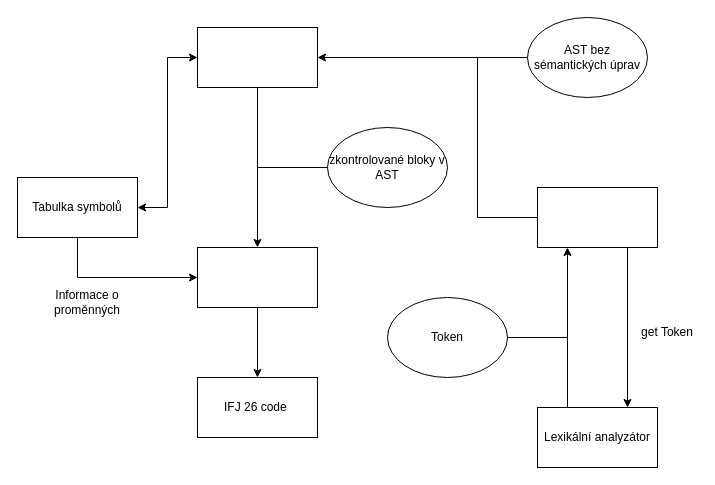
Some shapes in this 715 by 485 pixel diagram are drawn without their labels. Each missing label, with the centre of its shape:
Generátor kódu: point (257, 277)
Syntaktický analyzátor: point (597, 217)
Sémantická analýza: point (257, 57)
